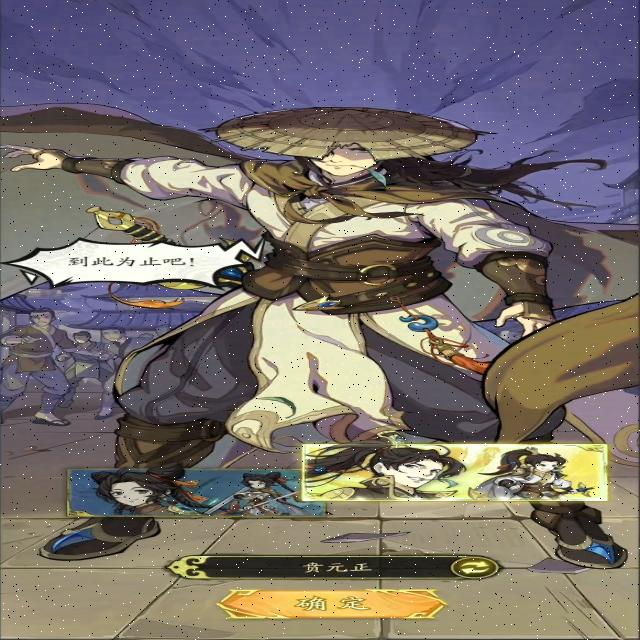operation-confirm: (210, 586, 449, 623)
